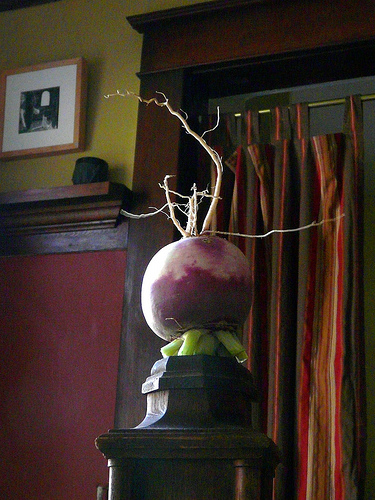turnip: (93, 85, 350, 363)
